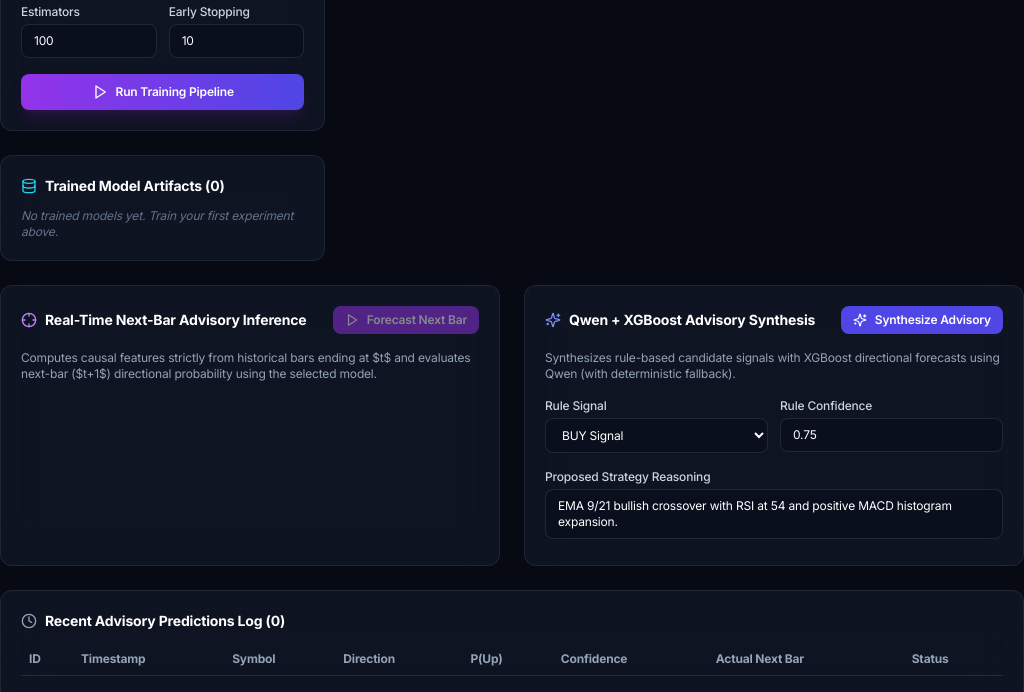
Test: XGBoostResearchView › handles Qwen advisory synthesis and warns on divergence
(page scrolled)
Click the button "Synthesize Advisory": (922, 320) [841, 306, 1003, 334]
(page scrolled)
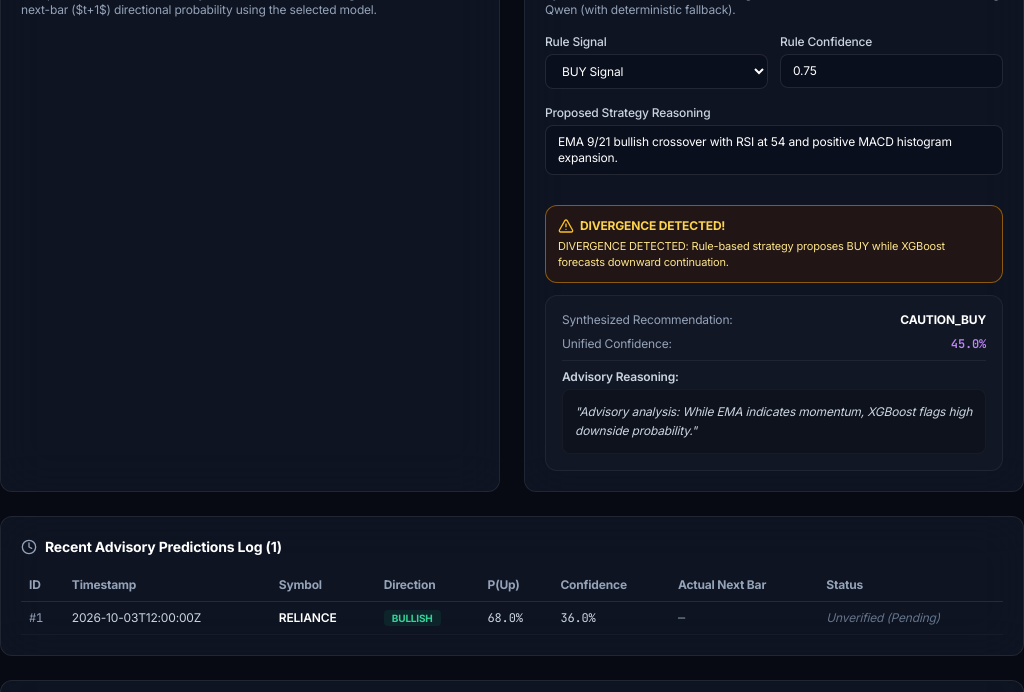
Now the text "Divergence Detected!" is shown, box [558, 218, 725, 234]
Now the text "DIVERGENCE DETECTED: Rule-based strategy proposes BUY" is shown, box [558, 238, 945, 268]
Now the text "CAUTION_BUY" is shown, box [900, 312, 986, 328]
